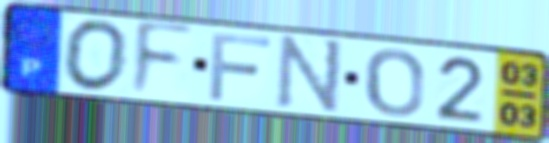2: (434, 54, 487, 124)
F: (127, 18, 197, 101), (207, 31, 275, 103)
N: (273, 33, 347, 118)
O: (61, 17, 132, 94), (363, 47, 426, 119)
